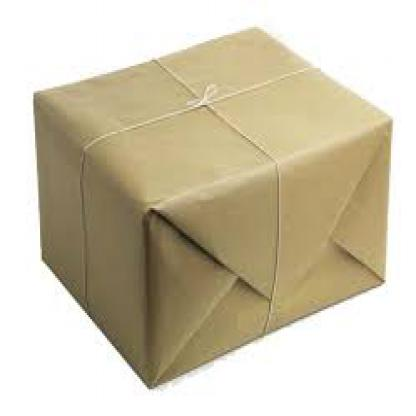paquete: (27, 8, 408, 396)
